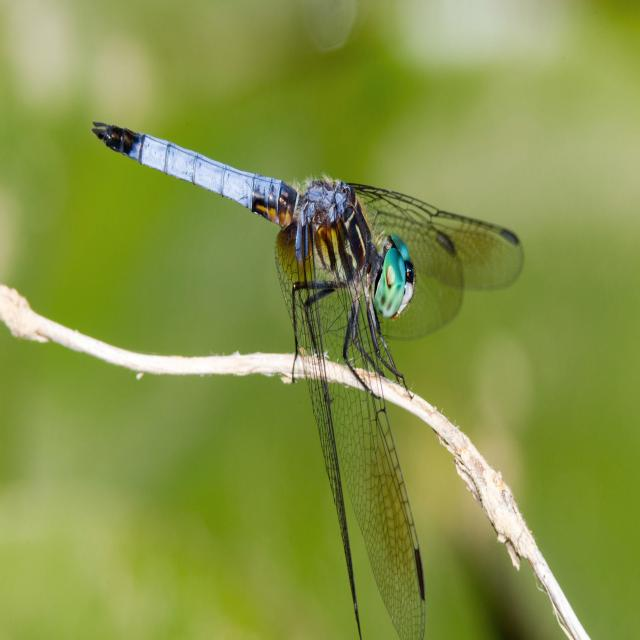dragonfly: (93, 123, 523, 637)
